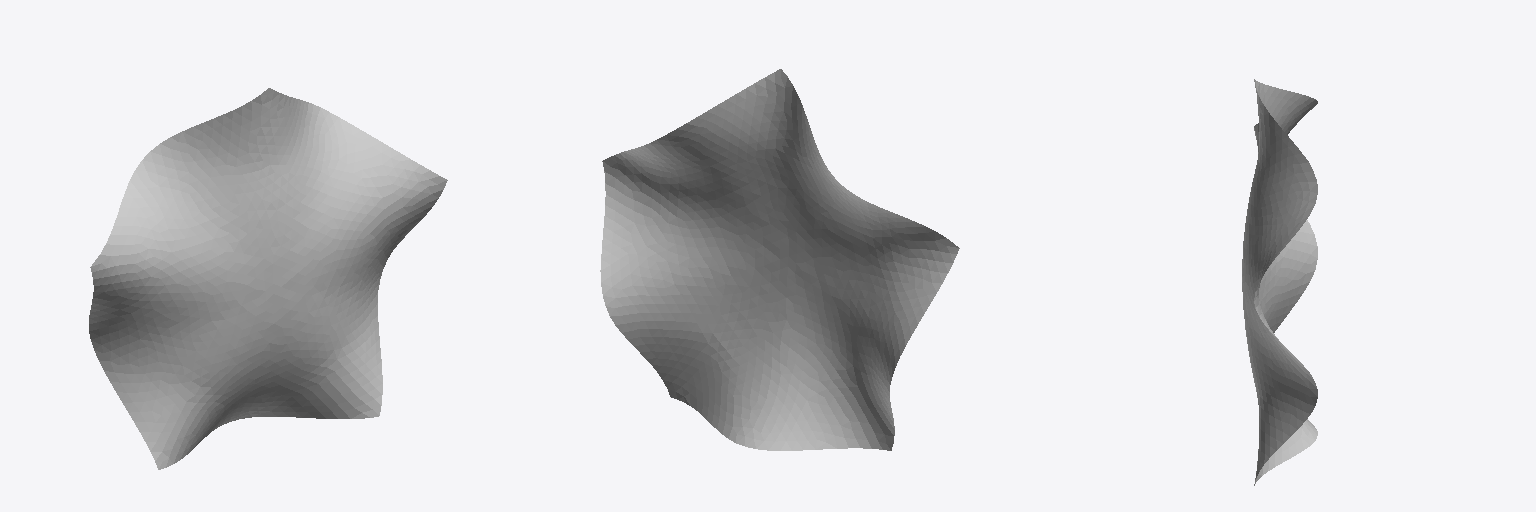
Rendered from penta.obj.
3 renders of one model, left to right at view 1: azimuth 30°, elevation 25°; view 2: azimuth 150°, elevation 25°; view 3: azimuth 270°, elevation 25°, orthographic.
Bounding box in the file's own units: 19.02 × 18.09 × 3.49.